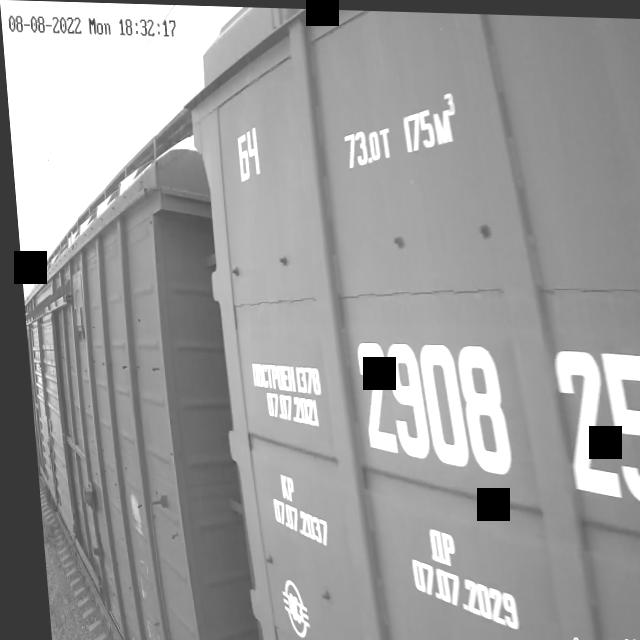boxcar: (175, 4, 640, 640), (5, 76, 244, 640)
